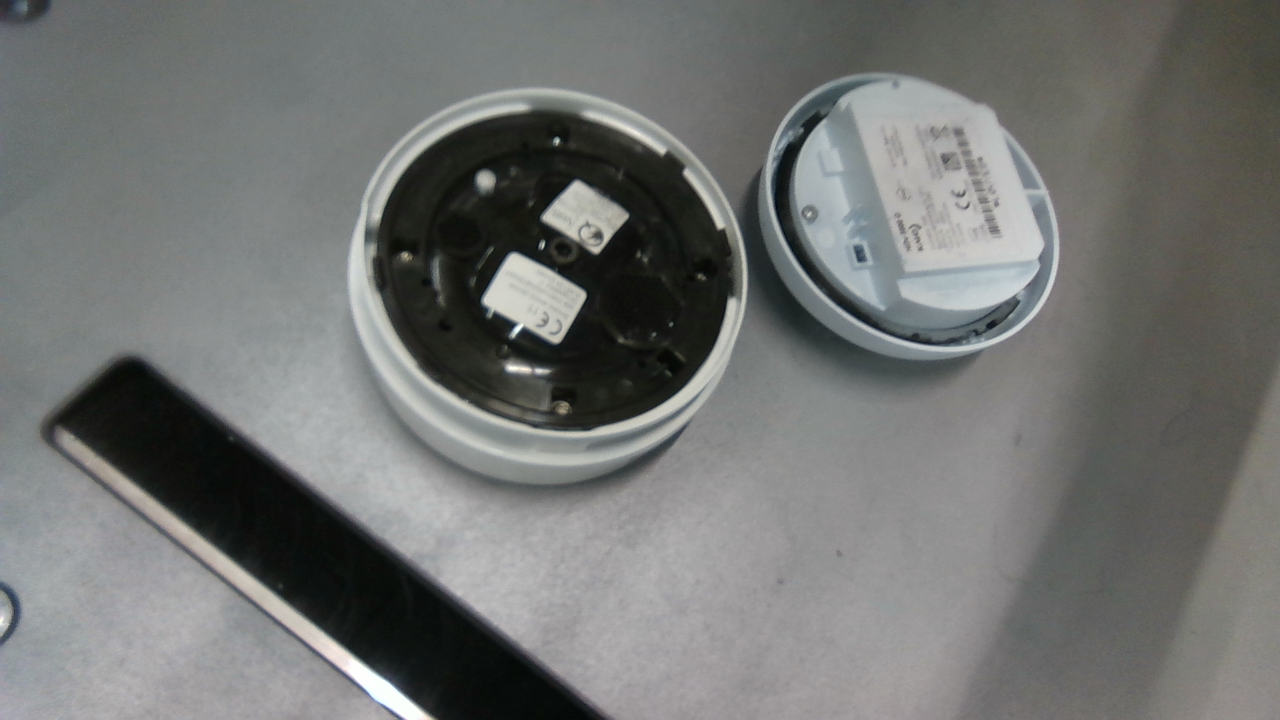HexScrew: (550, 396, 573, 422), (388, 245, 419, 263), (689, 263, 709, 288), (548, 132, 568, 151)
